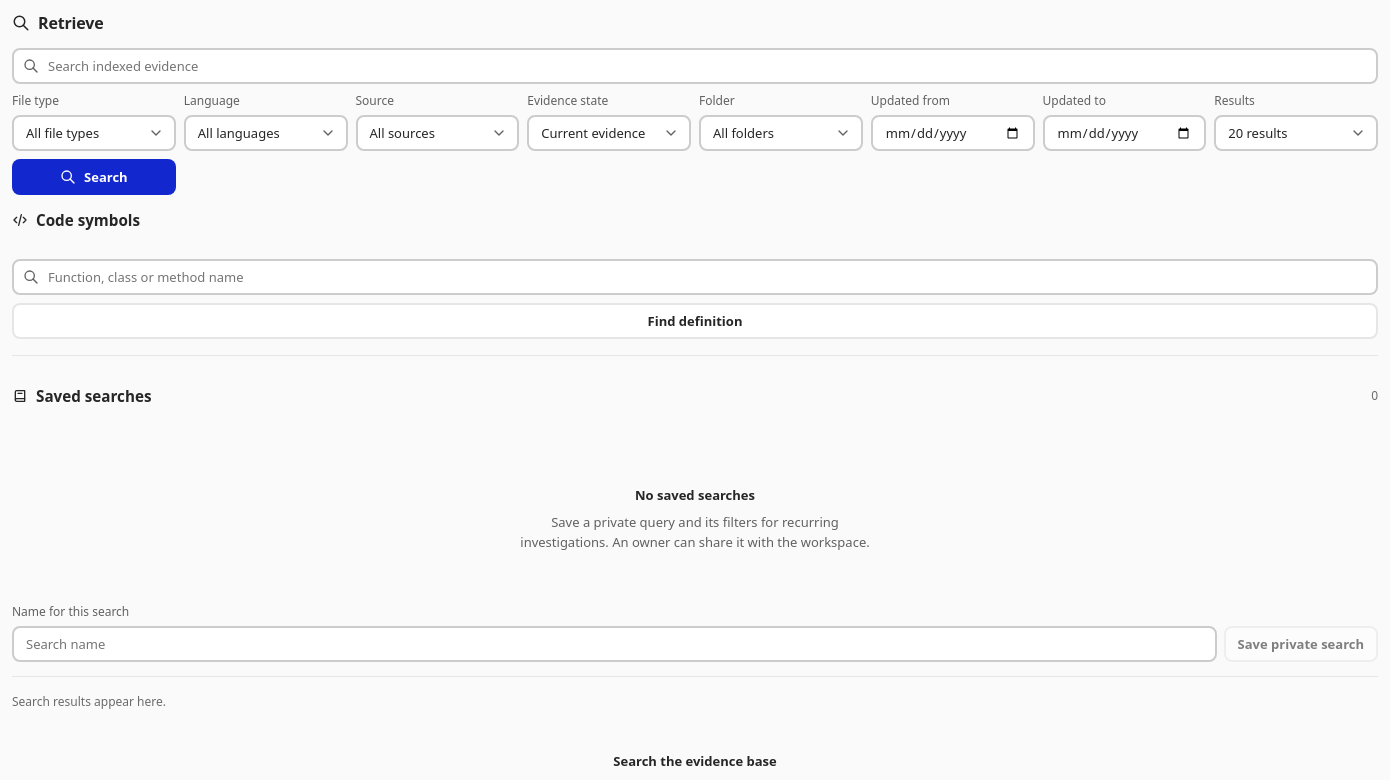
Test: retrieval on the shared pieces › uses the shared search field for the query and the symbol name, and clears the query with its button
Type "login" into the field labelled "Search indexed evidence" at (695, 66), box [12,48,1378,84]
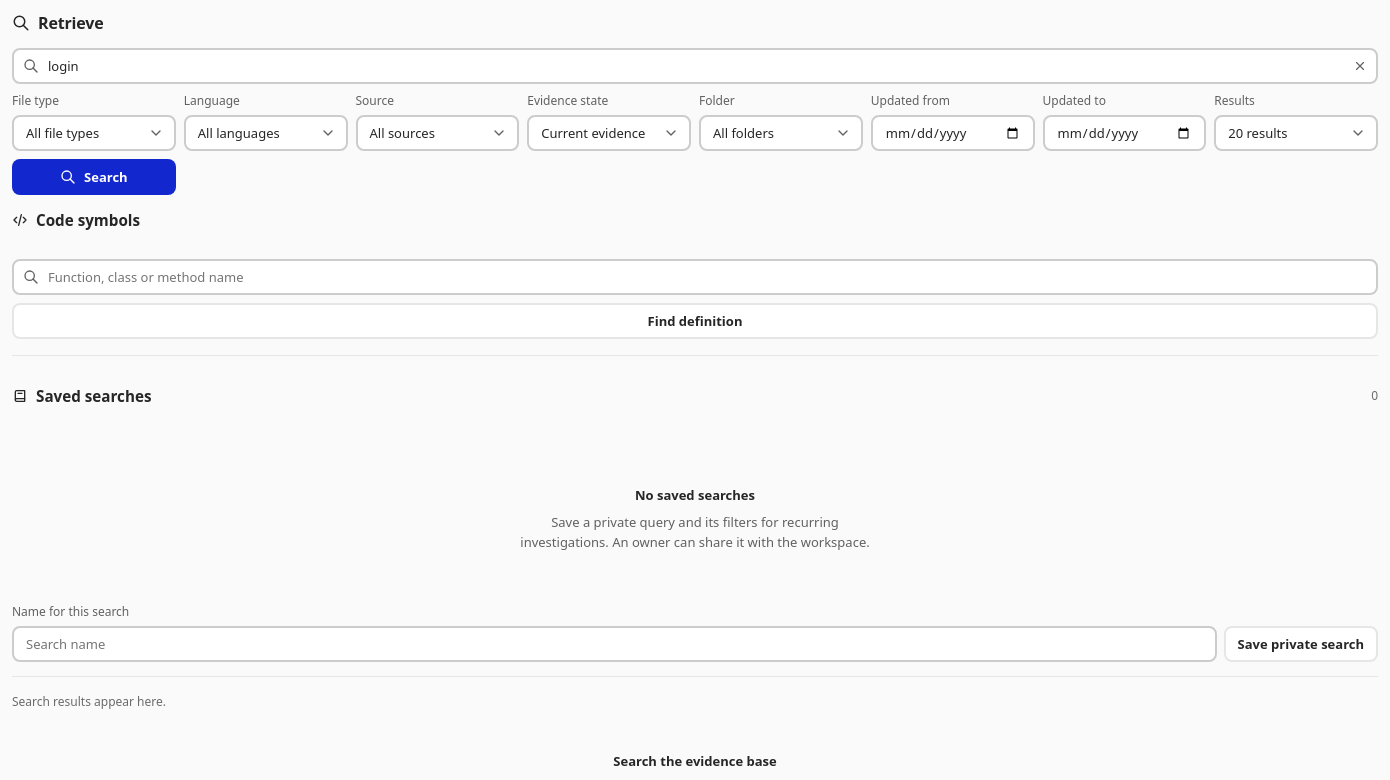
Click the button named "Clear search" at (1360, 66), box [1344,50,1376,82]
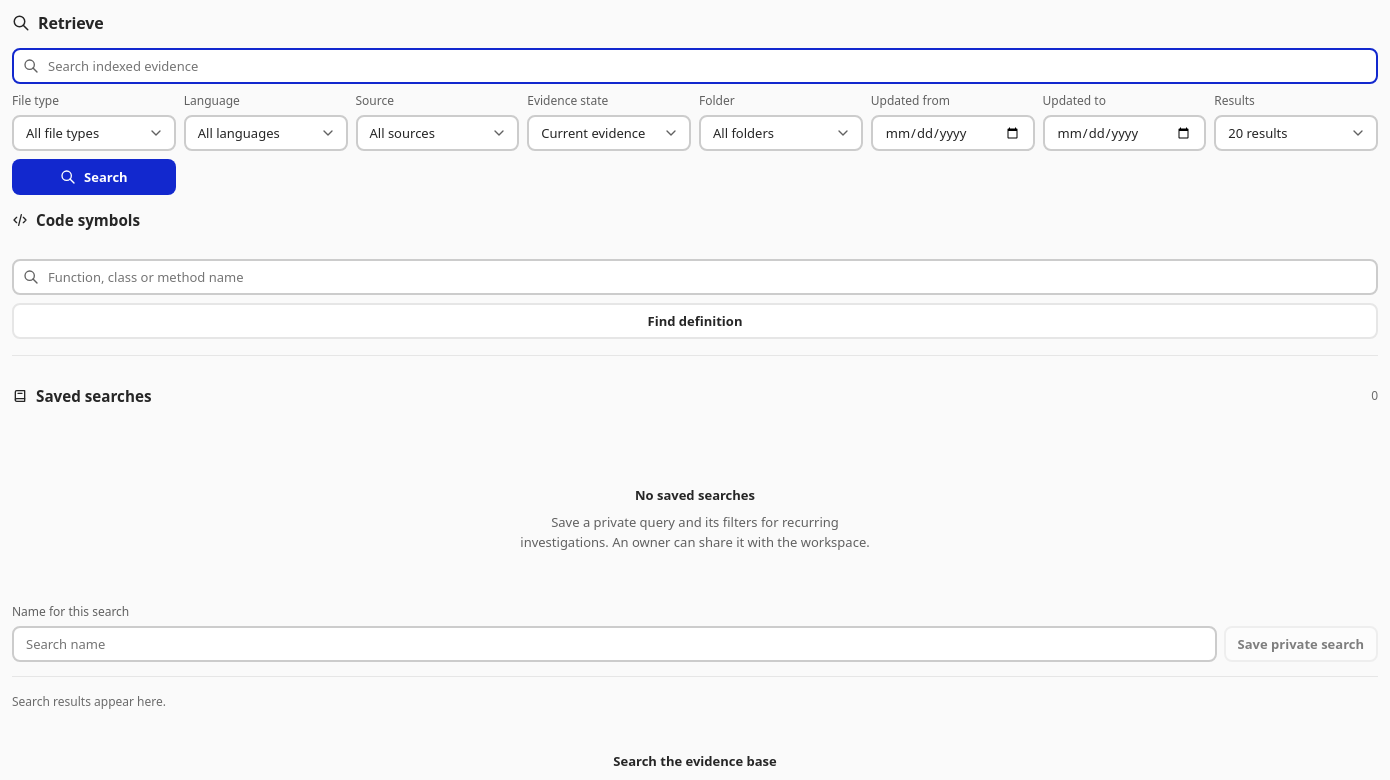
Expected: the element named "Function, class or method name" below "Code symbols" is shown, [12,259,1378,295]
Expected: the field labelled "Search indexed evidence" is empty, [12,48,1378,84]
